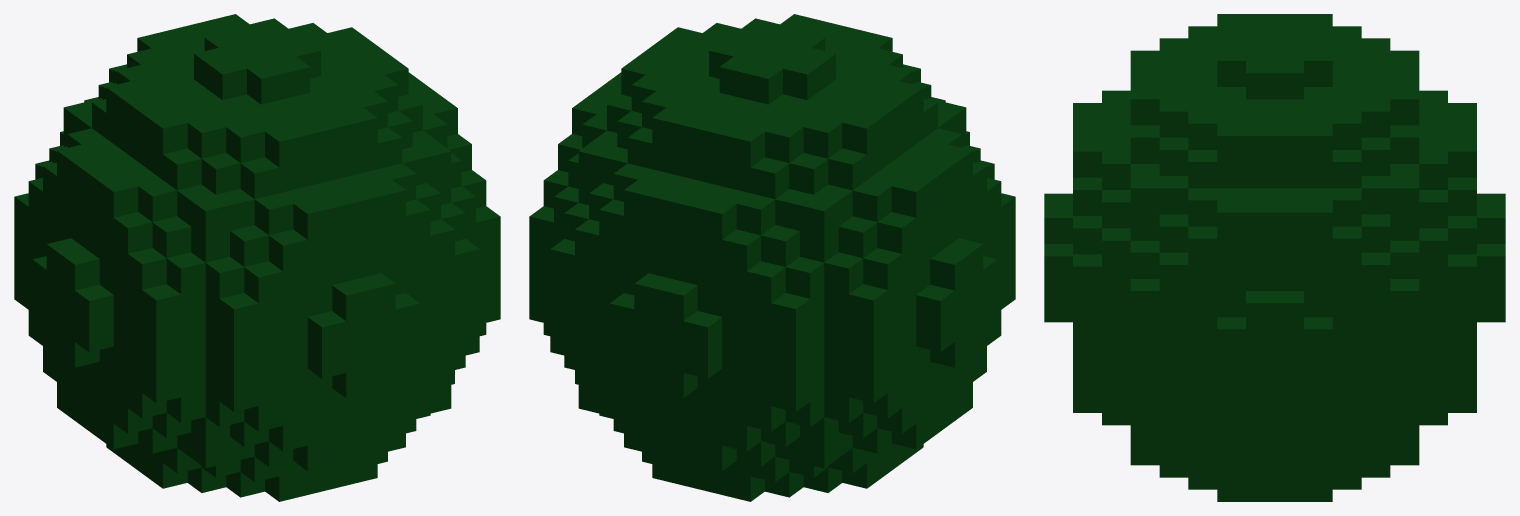
Rendered from green_slime_001-0.obj.
The picture shows the model from 3 angles, left to right: view 1: azimuth 30°, elevation 25°; view 2: azimuth 150°, elevation 25°; view 3: azimuth 270°, elevation 25°; orthographic projection.
Bounding box in the file's own units: 1.6 × 1.6 × 1.6.
